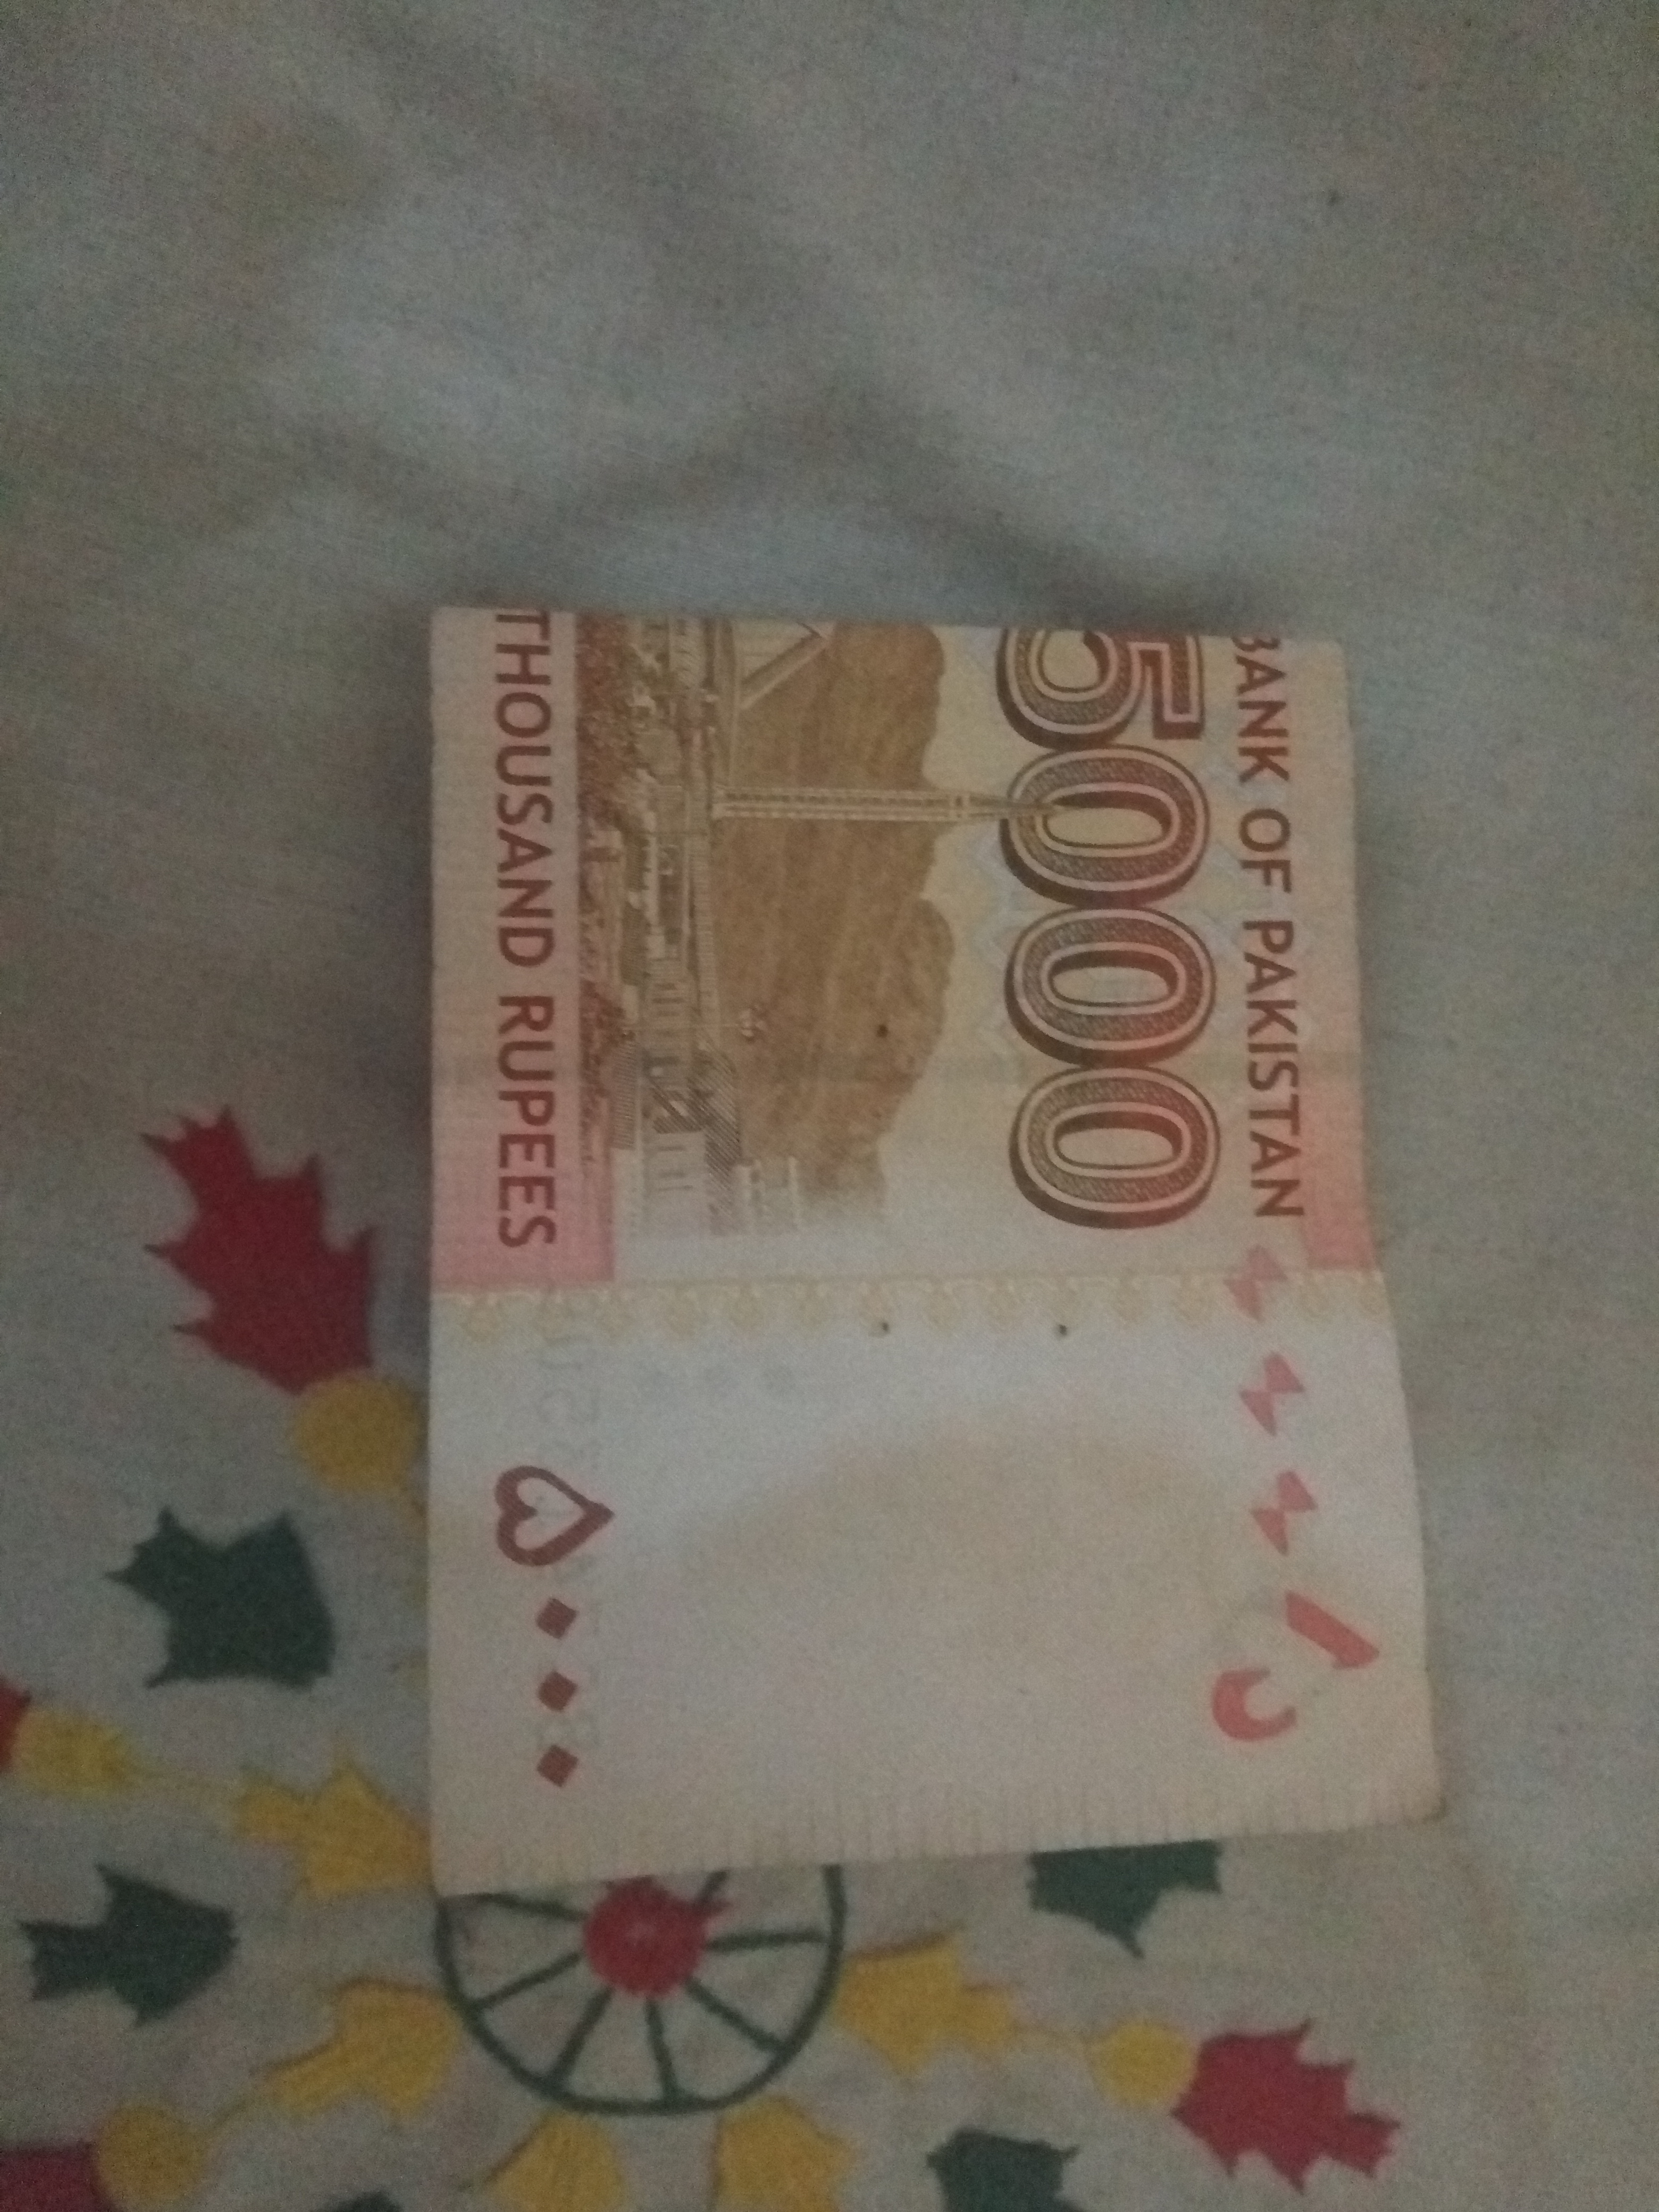5000 rupee: (420, 564, 1427, 1902)
